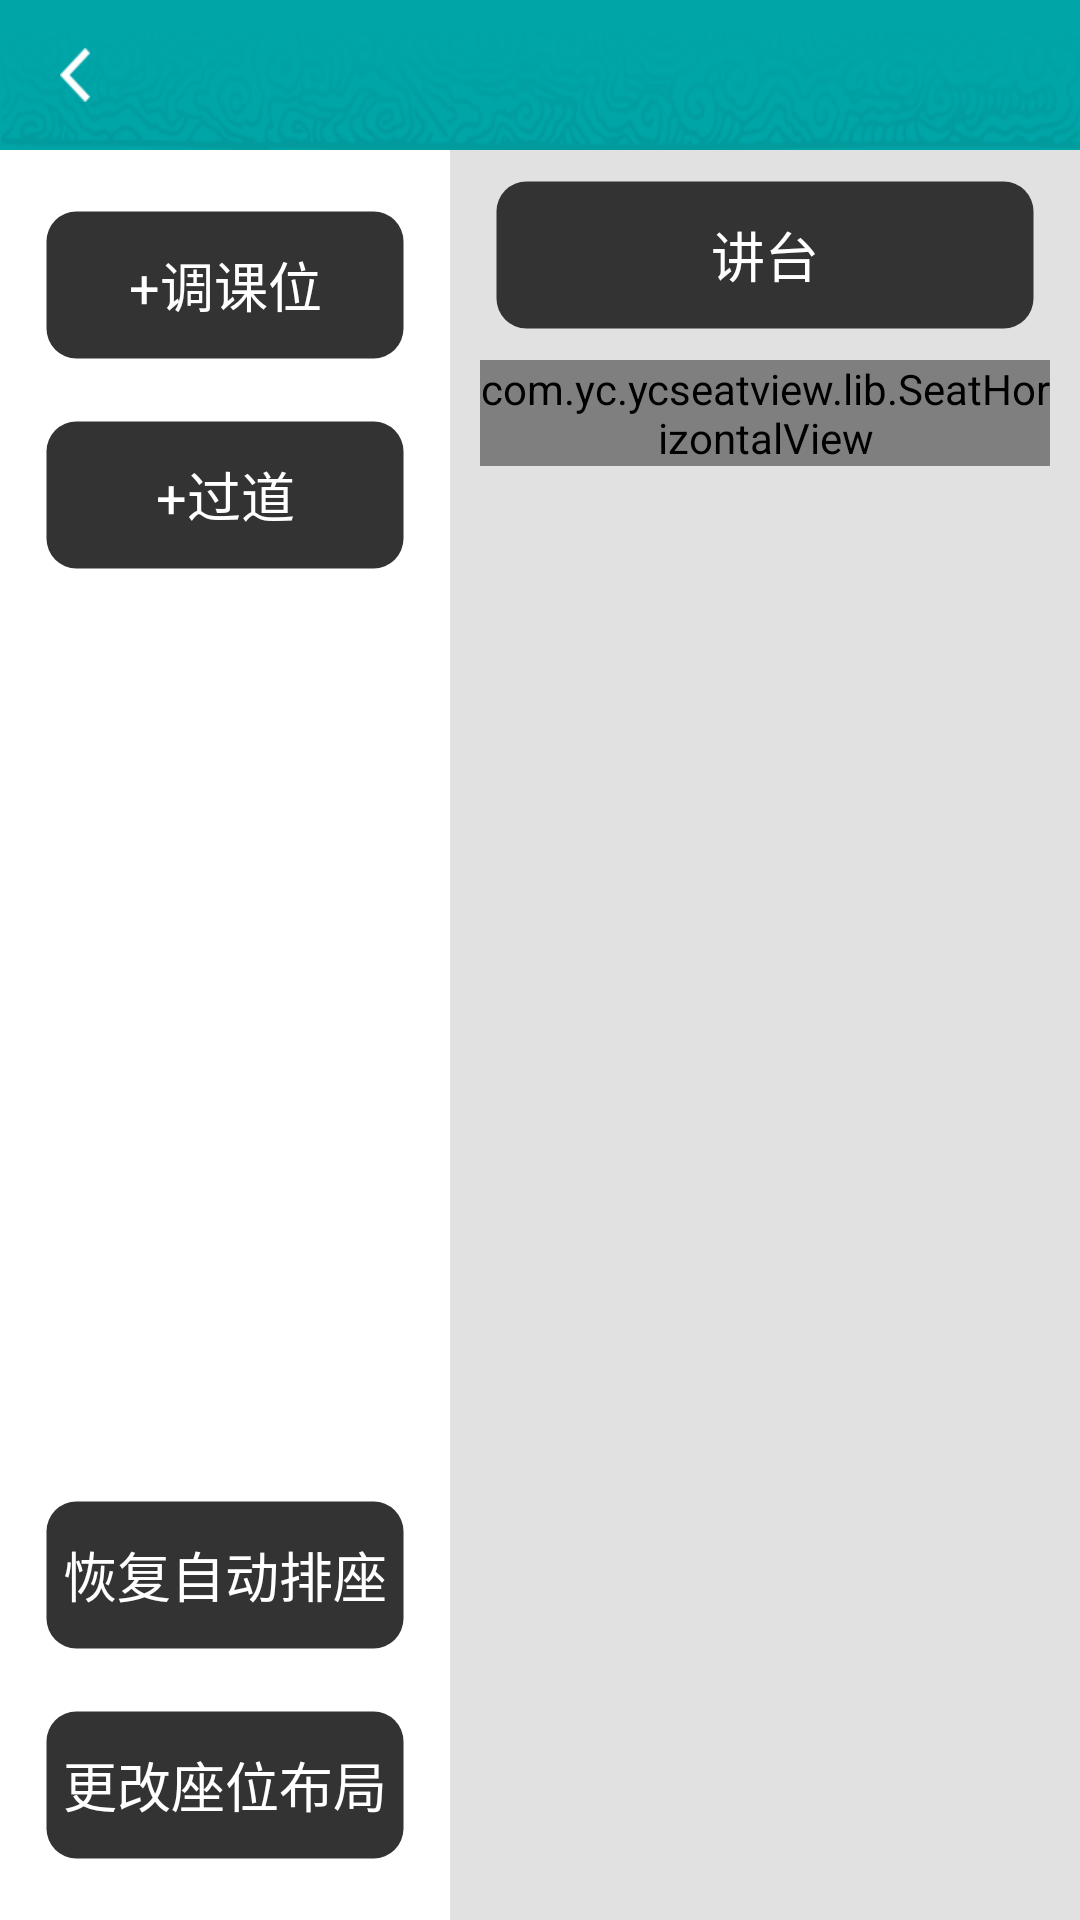

Screen size 1080w x 1920h. Icon name, then its box in pixels as region(x1, y1, x2, y2):
back arrow: region(60, 48, 90, 102)
